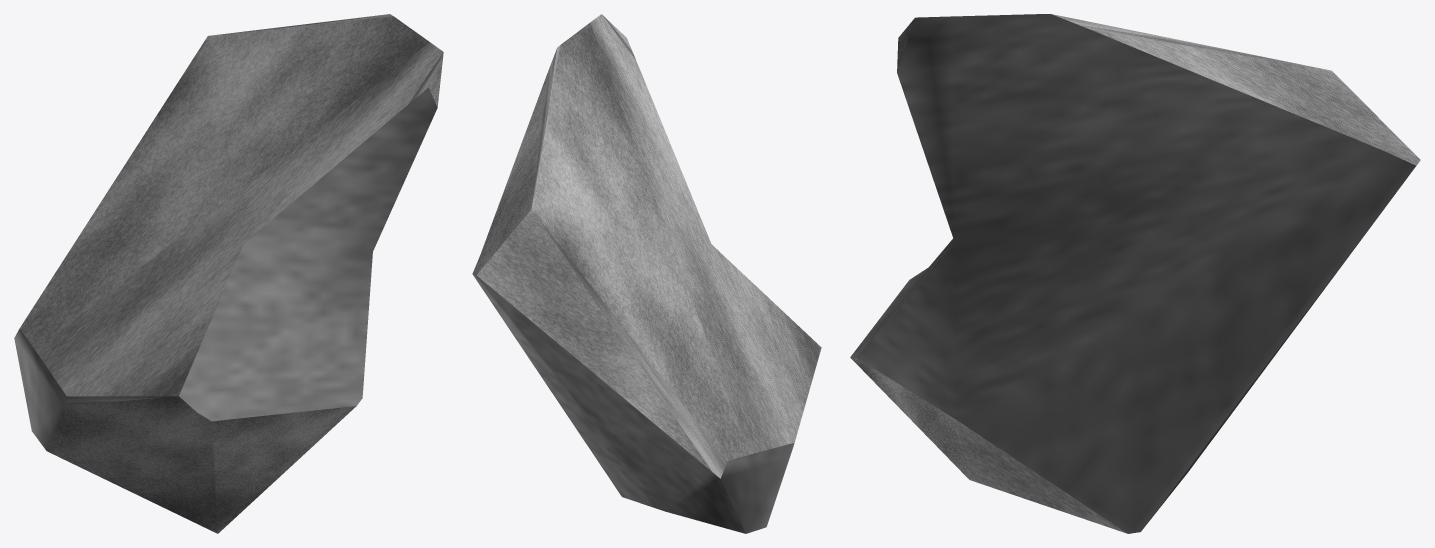
File: leg_3_cell_004.fbx
The picture shows the model from 3 angles, left to right: view 1: azimuth 30°, elevation 25°; view 2: azimuth 150°, elevation 25°; view 3: azimuth 270°, elevation 25°; orthographic projection. The views are drawn at different scales.
Visible parts, largest first — view 1: leg_3_cell.004; view 2: leg_3_cell.004; view 3: leg_3_cell.004.
Boxes of the visible parts, x1,y1,x2,y2 form: leg_3_cell.004: (14,14,443,533); leg_3_cell.004: (472,14,821,533); leg_3_cell.004: (850,14,1420,533).
Size of the model in its own units: 24.95 by 36.4 by 31.48.
